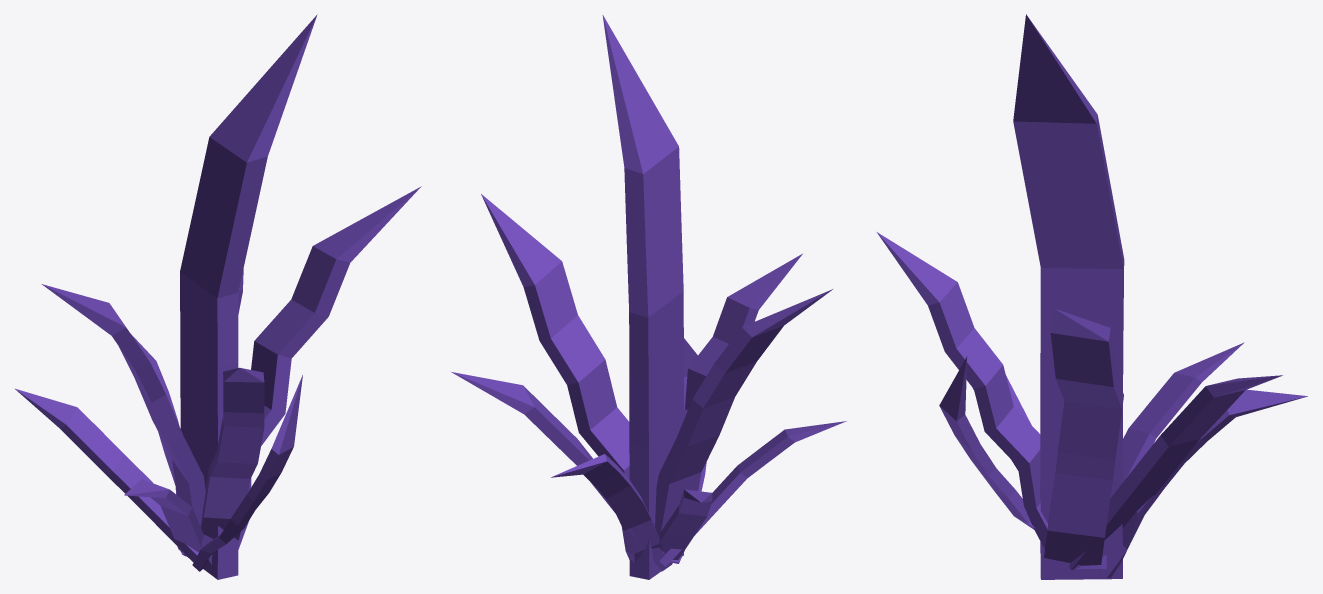
Rendered from Pasto_2.fbx.
3 renders of one model, left to right at view 1: azimuth 30°, elevation 25°; view 2: azimuth 150°, elevation 25°; view 3: azimuth 270°, elevation 25°, orthographic. The views are drawn at different scales.
Visible parts, largest first — view 1: Cube.008; view 2: Cube.008; view 3: Cube.008.
Part boxes in pixels (<box>): Cube.008: <box>15,14,421,579</box>; Cube.008: <box>451,15,846,579</box>; Cube.008: <box>876,14,1307,579</box>.
Size of the model in its own units: 79.9 by 111 by 71.72.
